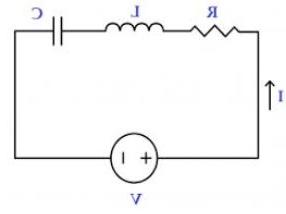inductor: (100, 18, 168, 40)
